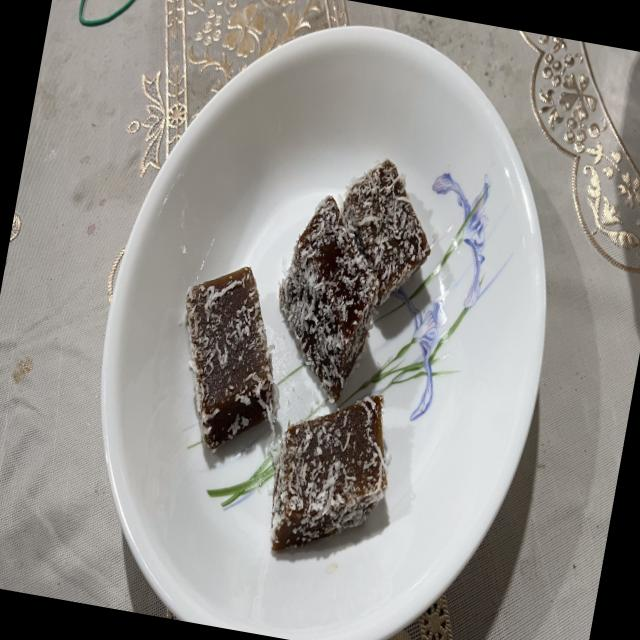kaswi: (279, 195, 378, 401), (270, 395, 387, 550), (185, 266, 279, 450), (342, 160, 430, 304)
